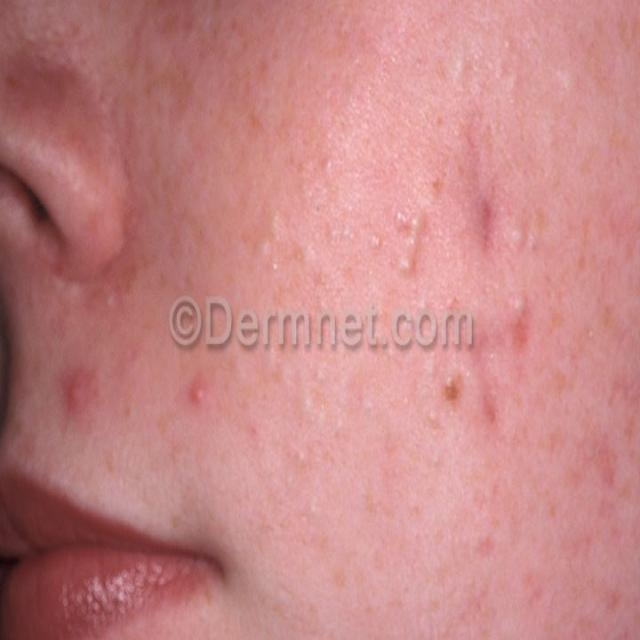acne: (43, 91, 600, 490)
